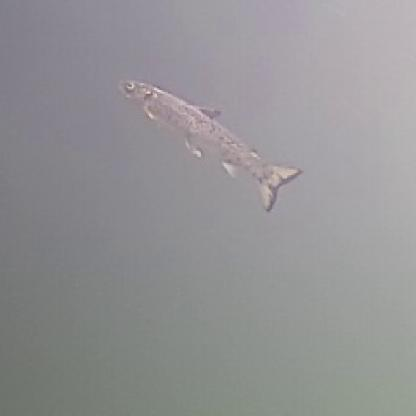salmon: (109, 71, 302, 210)
